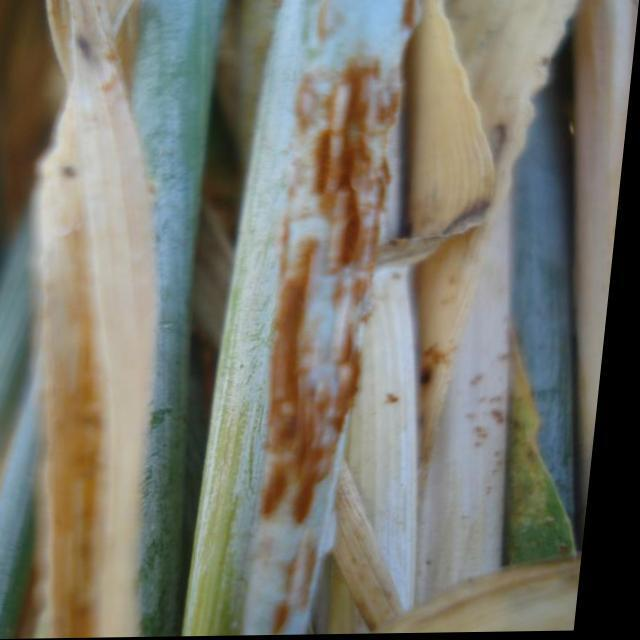Stem Rust: (194, 0, 407, 636)
